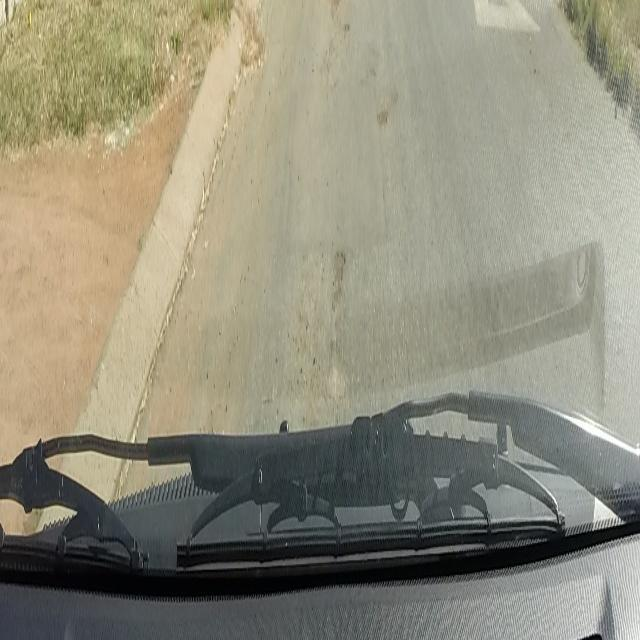pothole: (324, 243, 354, 322)
